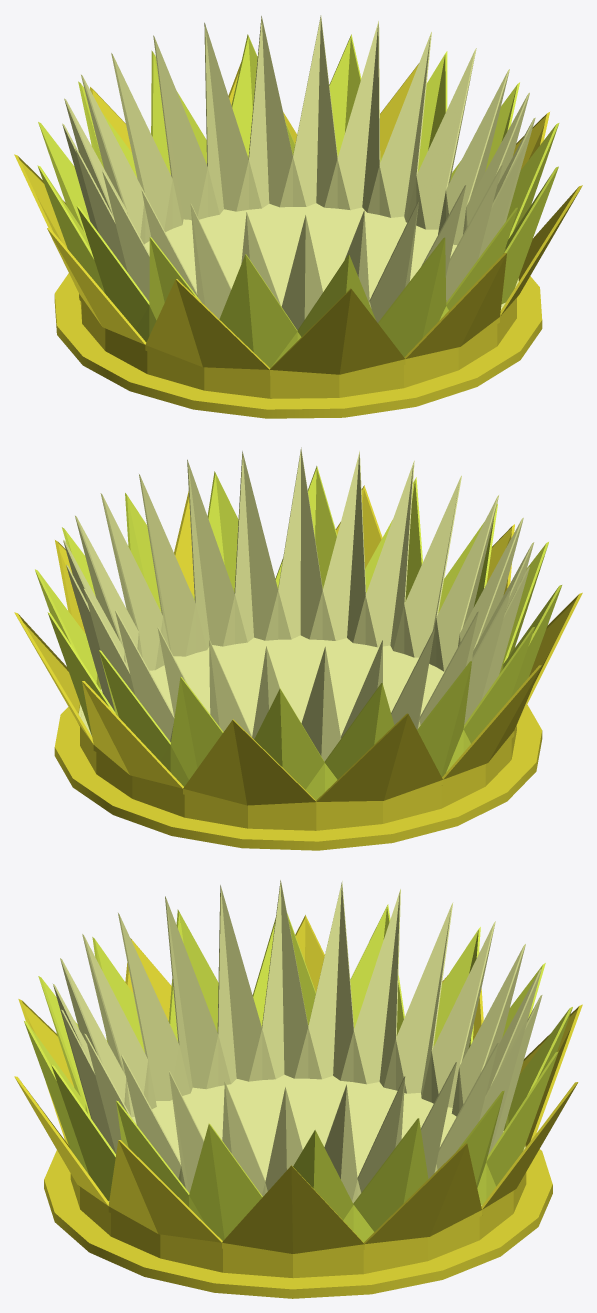
The model's file is portal_000045.obj.
3 views of the same model, one above another, from view 1: azimuth 30°, elevation 25°; view 2: azimuth 150°, elevation 25°; view 3: azimuth 270°, elevation 25° (orthographic). The views are drawn at different scales.
Parts seen in each view (by area): view 1: Cylinder.001, pCylinder1, Cylinder; view 2: Cylinder.001, pCylinder1, Cylinder; view 3: Cylinder.001, pCylinder1, Cylinder.
Part boxes in pixels (x1=…): Cylinder.001: x1=62, y1=15, x2=535, y2=330; pCylinder1: x1=14, y1=62, x2=582, y2=418; Cylinder: x1=37, y1=34, x2=559, y2=368; Cylinder.001: x1=63, y1=447, x2=534, y2=761; pCylinder1: x1=14, y1=485, x2=582, y2=850; Cylinder: x1=35, y1=466, x2=561, y2=800; Cylinder.001: x1=53, y1=880, x2=542, y2=1203; pCylinder1: x1=14, y1=915, x2=582, y2=1298; Cylinder: x1=24, y1=904, x2=572, y2=1242.
Bounding box in the file's own units: 7.45 × 2.9 × 7.14.
Materials: 3 (3 with a texture image).
